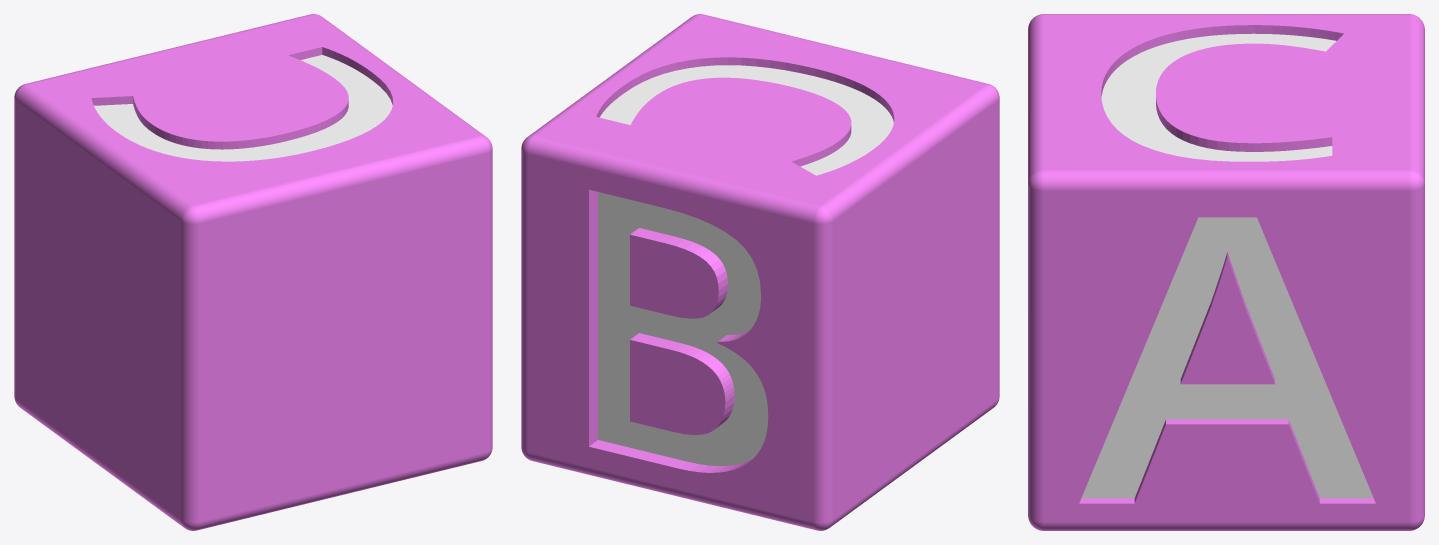
File: familiar.glb
3 renders of one model, left to right at view 1: azimuth 30°, elevation 25°; view 2: azimuth 150°, elevation 25°; view 3: azimuth 270°, elevation 25°, orthographic. The views are drawn at different scales.
Parts seen in each view (by area): view 1: Box, 3D Text 3 - C; view 2: Box, 3D Text 5 - B, 3D Text 3 - C; view 3: Box, 3D Text 4 - A, 3D Text 3 - C.
Boxes of the visible parts, bbox=[...] form: Box: bbox=[14, 14, 492, 530]; 3D Text 3 - C: bbox=[94, 55, 392, 161]; Box: bbox=[521, 14, 999, 530]; 3D Text 5 - B: bbox=[598, 192, 768, 465]; 3D Text 3 - C: bbox=[600, 65, 893, 175]; Box: bbox=[1028, 14, 1424, 530]; 3D Text 4 - A: bbox=[1081, 217, 1373, 498]; 3D Text 3 - C: bbox=[1101, 33, 1336, 161].
Size of the model in its own units: 0.04 by 0.04 by 0.04.
